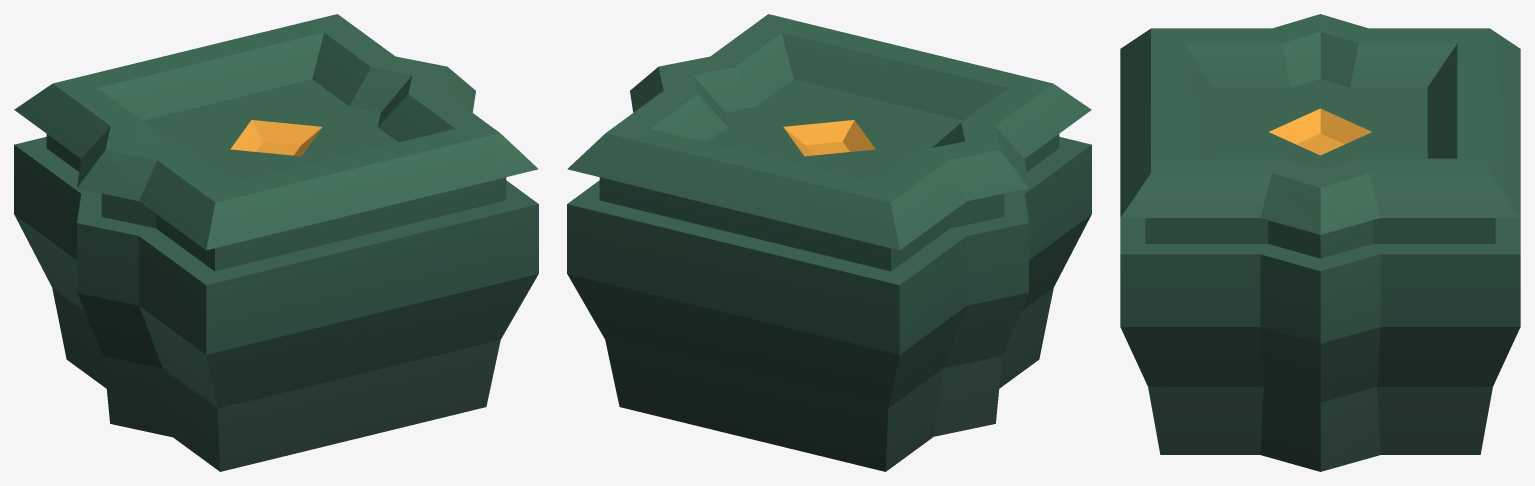
The model's file is SM_PillarTop_01.fbx.
3 views of the same model, side by side, from view 1: azimuth 30°, elevation 25°; view 2: azimuth 150°, elevation 25°; view 3: azimuth 270°, elevation 25° (orthographic). The views are drawn at different scales.
Parts seen in each view (by area): view 1: SM_PillarTop_01; view 2: SM_PillarTop_01; view 3: SM_PillarTop_01.
Part boxes in pixels (x1=…): SM_PillarTop_01: x1=14, y1=14, x2=538, y2=471; SM_PillarTop_01: x1=567, y1=14, x2=1091, y2=471; SM_PillarTop_01: x1=1120, y1=14, x2=1520, y2=471.
Bounding box in the file's own units: 300 × 197 × 250.
Materials: 1 (1 with a texture image).
